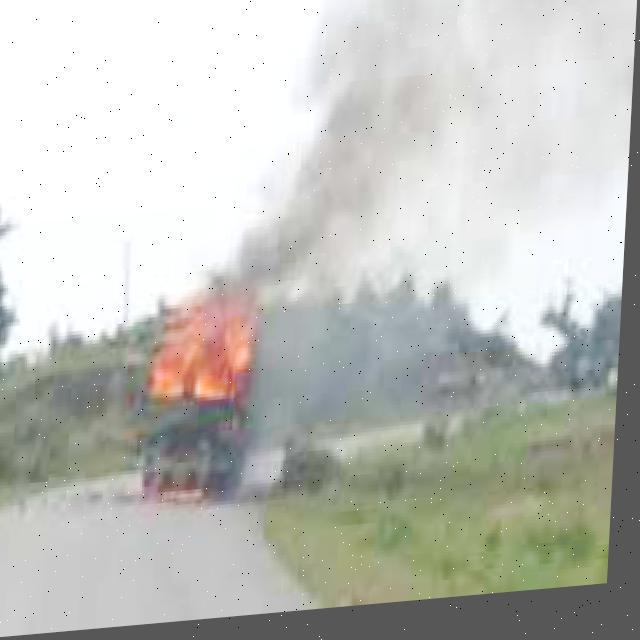Fire: (137, 288, 280, 424)
